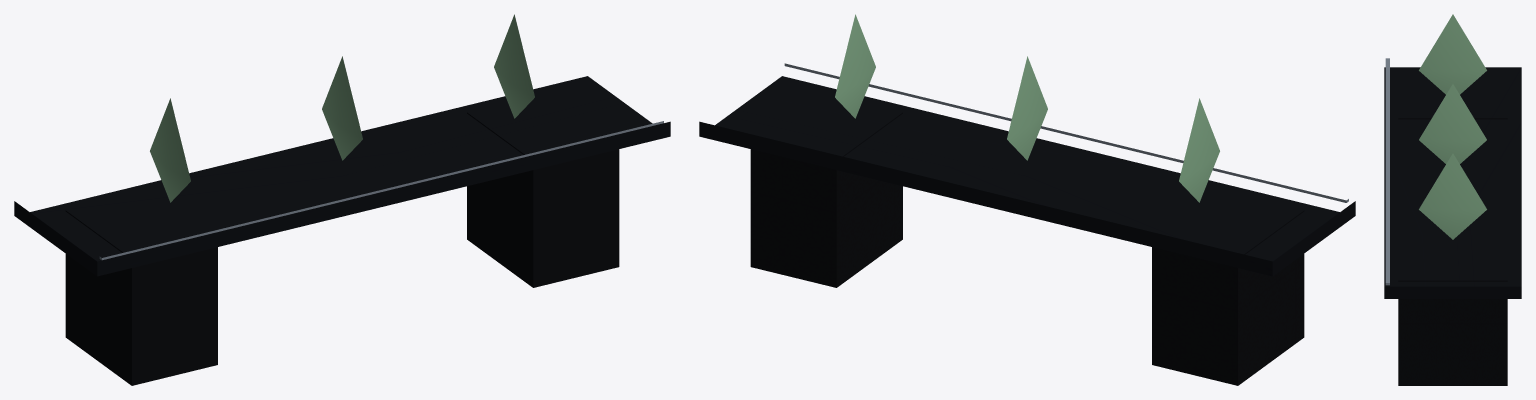
Rendered from v2_kelp_bench.glb.
3 views of the same model, side by side, from view 1: azimuth 30°, elevation 25°; view 2: azimuth 150°, elevation 25°; view 3: azimuth 270°, elevation 25° (orthographic). The views are drawn at different scales.
Parts seen in each view (by area): view 1: Bench_Seat, Bench_Plinths, Seat_Crests, Seat_Edge; view 2: Bench_Seat, Bench_Plinths, Seat_Crests, Seat_Edge; view 3: Bench_Seat, Bench_Plinths, Seat_Crests, Seat_Edge.
Part boxes in pixels (x1=…): Bench_Seat: x1=14, y1=76, x2=670, y2=276; Bench_Plinths: x1=65, y1=112, x2=619, y2=385; Seat_Crests: x1=150, y1=14, x2=534, y2=202; Seat_Edge: x1=99, y1=121, x2=663, y2=260; Bench_Seat: x1=699, y1=76, x2=1355, y2=276; Bench_Plinths: x1=750, y1=112, x2=1304, y2=385; Seat_Crests: x1=835, y1=14, x2=1219, y2=202; Seat_Edge: x1=784, y1=63, x2=1348, y2=202; Bench_Seat: x1=1384, y1=67, x2=1521, y2=298; Bench_Plinths: x1=1398, y1=118, x2=1507, y2=385; Seat_Crests: x1=1419, y1=14, x2=1486, y2=239; Seat_Edge: x1=1385, y1=58, x2=1389, y2=285.
Size of what is drawn, in the model's own units: 2 by 0.821 by 0.5.
Materials: 4 (3 with a texture image).
